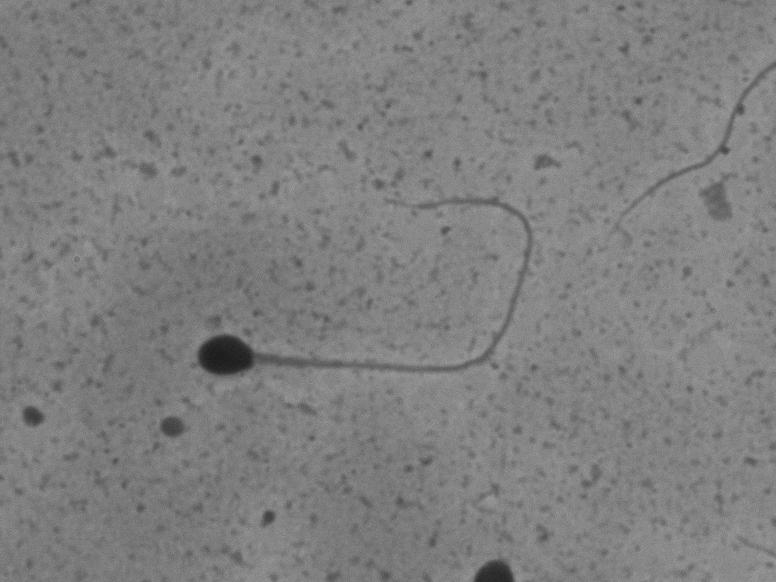Abnormal: (179, 167, 593, 422)
